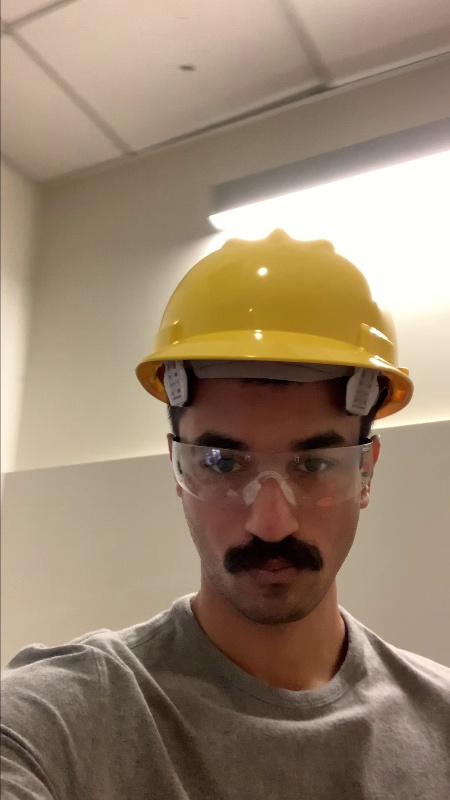glasses: (170, 438, 379, 502)
helmet: (144, 233, 390, 374)
